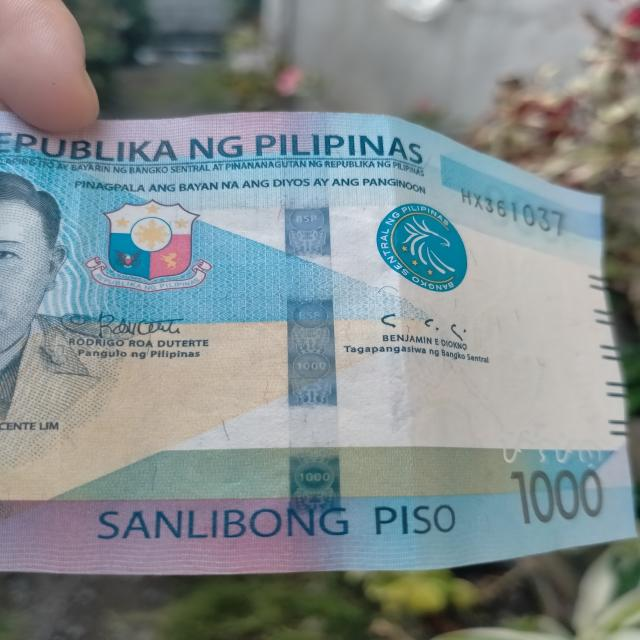security_thread: (286, 110, 336, 570)
see_through_mark: (485, 427, 617, 474)
serial_number: (446, 177, 585, 243)
